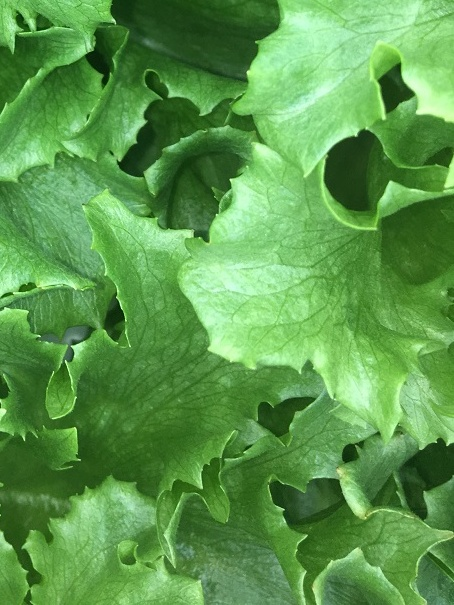tipburn: (331, 462, 350, 479), (357, 507, 375, 524), (307, 579, 319, 595)
